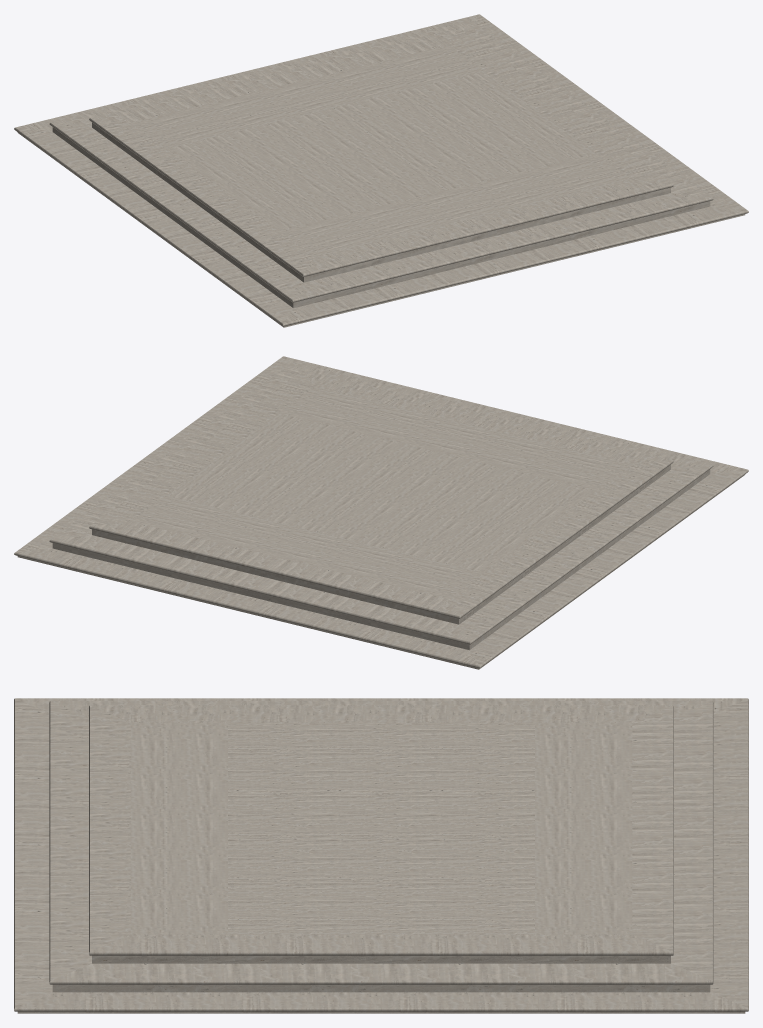
Rendered from obelisk_Stair.FBX.
The picture shows the model from 3 angles, top to bottom: view 1: azimuth 30°, elevation 25°; view 2: azimuth 150°, elevation 25°; view 3: azimuth 270°, elevation 25°; orthographic projection. The views are drawn at different scales.
Parts seen in each view (by area): view 1: Box004; view 2: Box004; view 3: Box004.
Boxes of the visible parts, x1,y1,x2,y2 form: Box004: [14, 14, 748, 327]; Box004: [14, 356, 748, 669]; Box004: [14, 698, 748, 1013].
Size of the model in its own units: 1009 by 47.32 by 1009.
